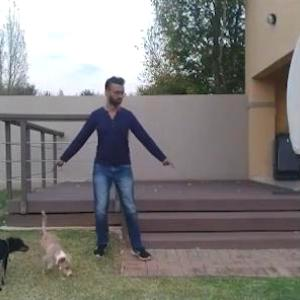land: (52, 90, 195, 252)
